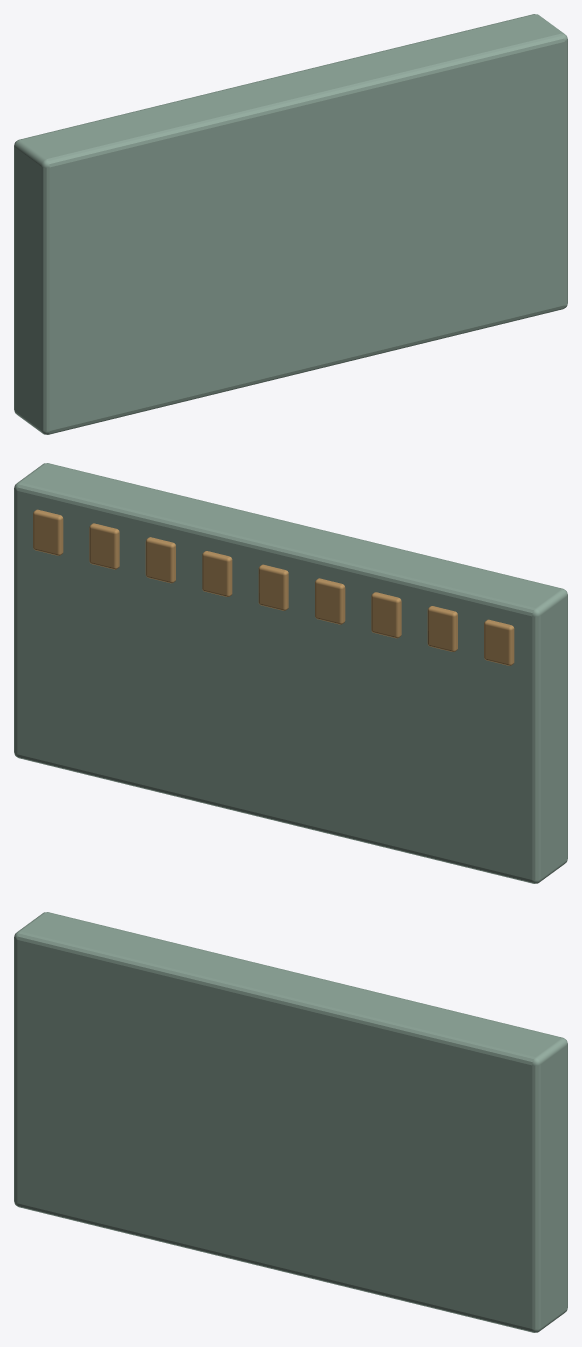
The model's file is slider.glb.
3 renders of one model, top to bottom at view 1: azimuth 30°, elevation 25°; view 2: azimuth 150°, elevation 25°; view 3: azimuth 330°, elevation 25°, orthographic.
Parts seen in each view (by area): view 1: slider; view 2: slider; view 3: slider.
Part boxes in pixels (x1,y1,x2,y2): slider: (14, 14, 567, 434); slider: (14, 463, 567, 883); slider: (14, 912, 567, 1332).
Size of the model in its own units: 0.028 by 0.014 by 0.0033.
